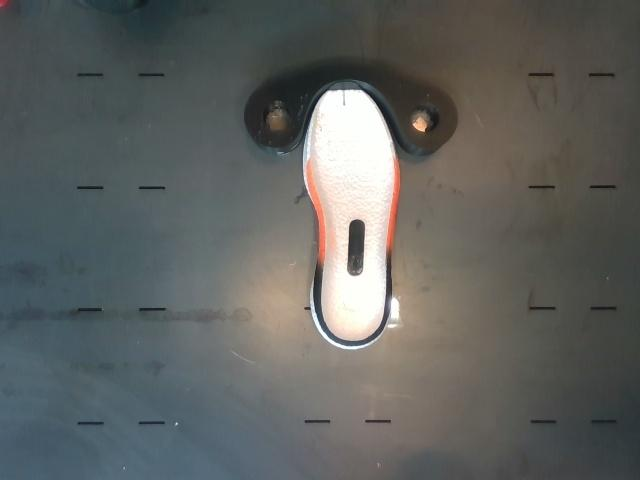shoes: (311, 82, 394, 340)
